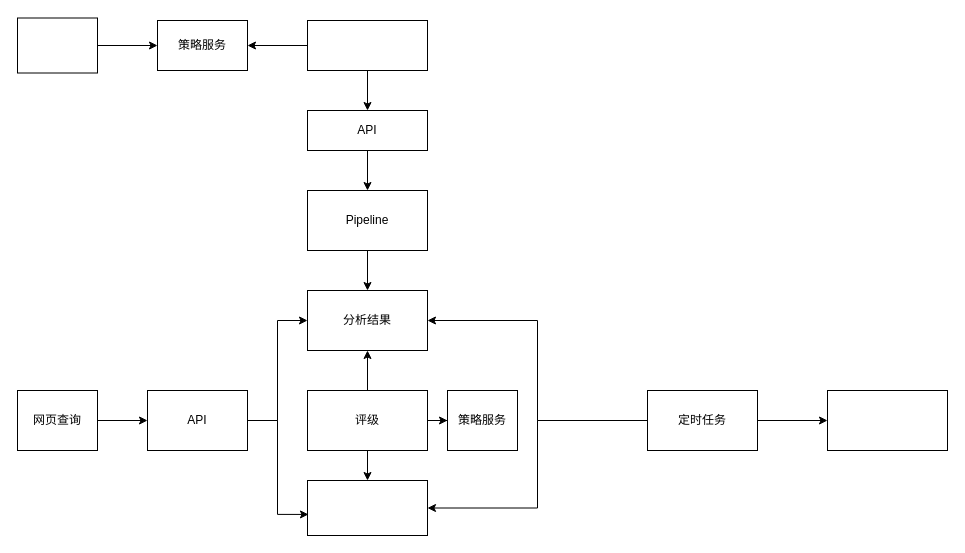
The diagram is 965 pixels wide and 553 high, and some of its shapes have lost their labels. The shapes that lost their labels are listed below. From the top down, each one's centre as x and y in pixels, then its label:
At point (57, 45): "运营后台".
At point (367, 45): "触发器".
At point (887, 420): "日报".
At point (367, 508): "评价结果".
